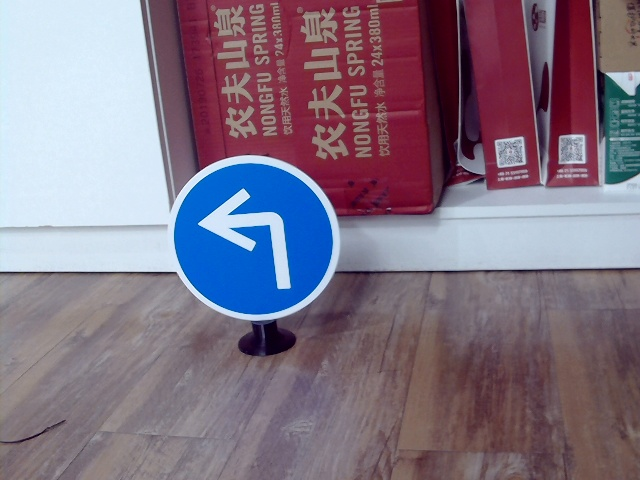turn_left: (195, 186, 300, 292)
